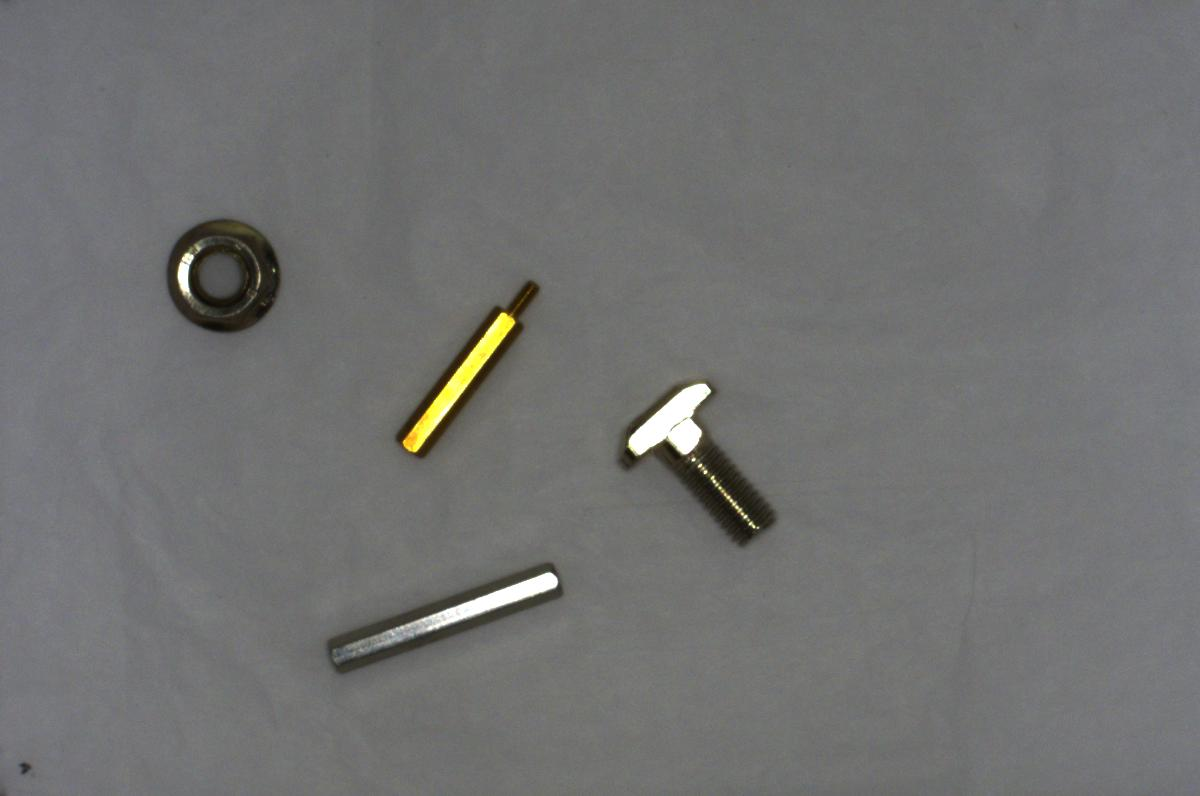Double hexagonal column: (311, 558, 573, 682)
Flange nut: (155, 209, 284, 334)
Hexagon pillar: (387, 263, 546, 456)
T-shaped screw: (607, 372, 781, 553)
